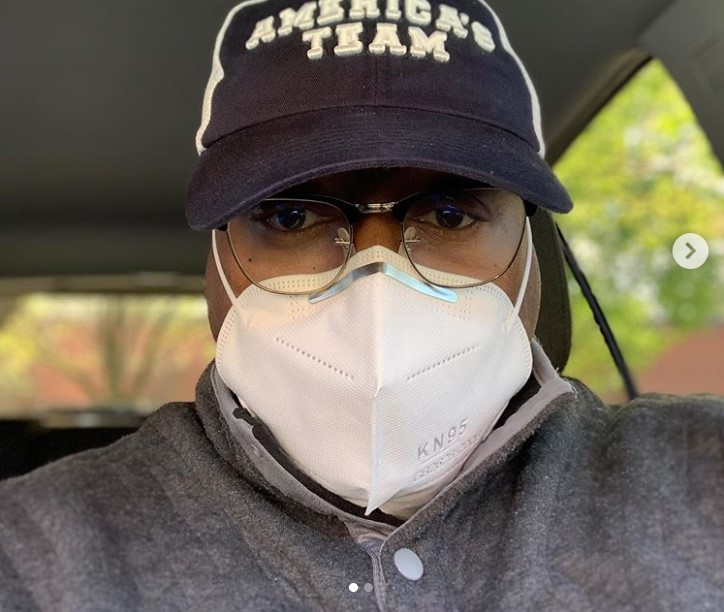face_with_mask: (194, 10, 555, 514)
